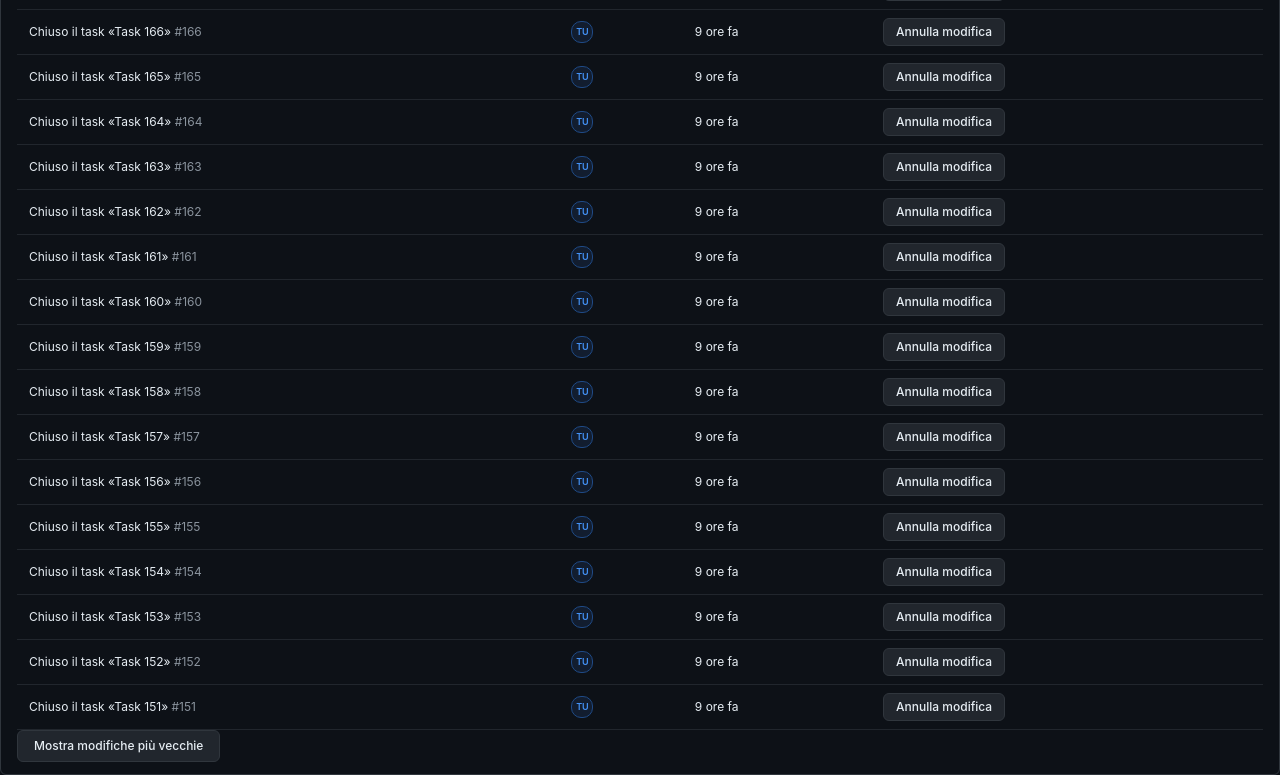
Scenario: ChangesTab › loads older changes with the last id as cursor
The width and height of the screenshot is (1280, 775).
(page scrolled)
Click the button "Mostra modifiche più vecchie": (119, 746) [17, 730, 220, 762]
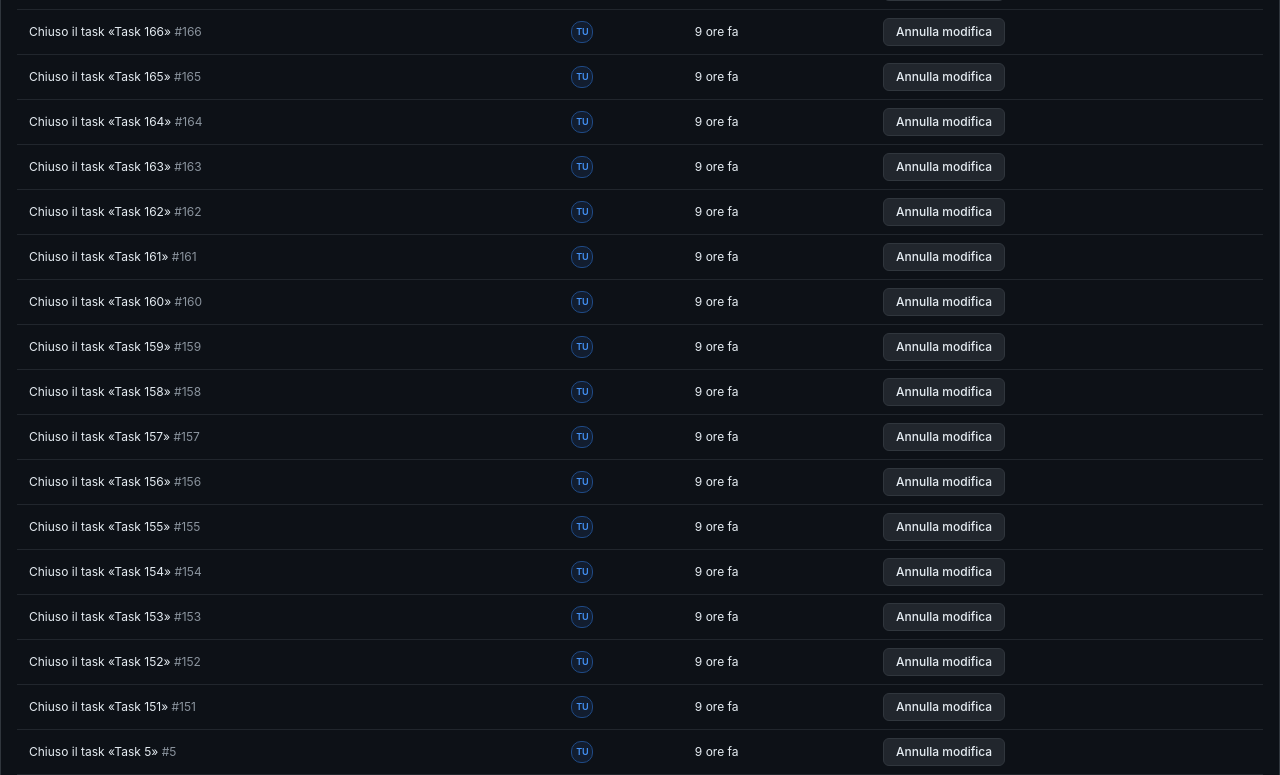
Expected: the text "Chiuso il task «Task 5»" is shown, [29, 744, 158, 759]
